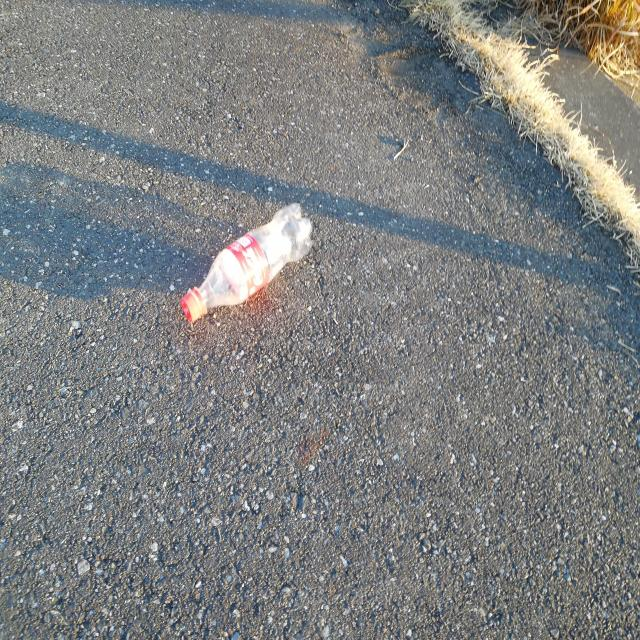litter: (185, 206, 311, 323)
